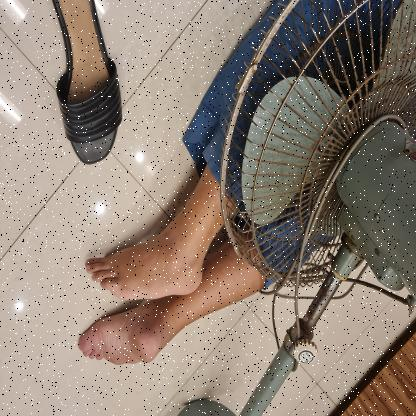leg: (81, 166, 235, 305), (61, 301, 209, 370)
